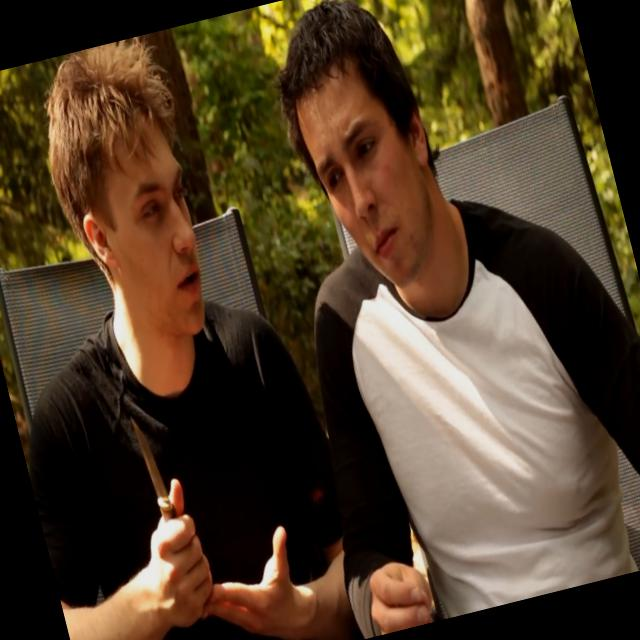knife: (110, 391, 214, 588)
